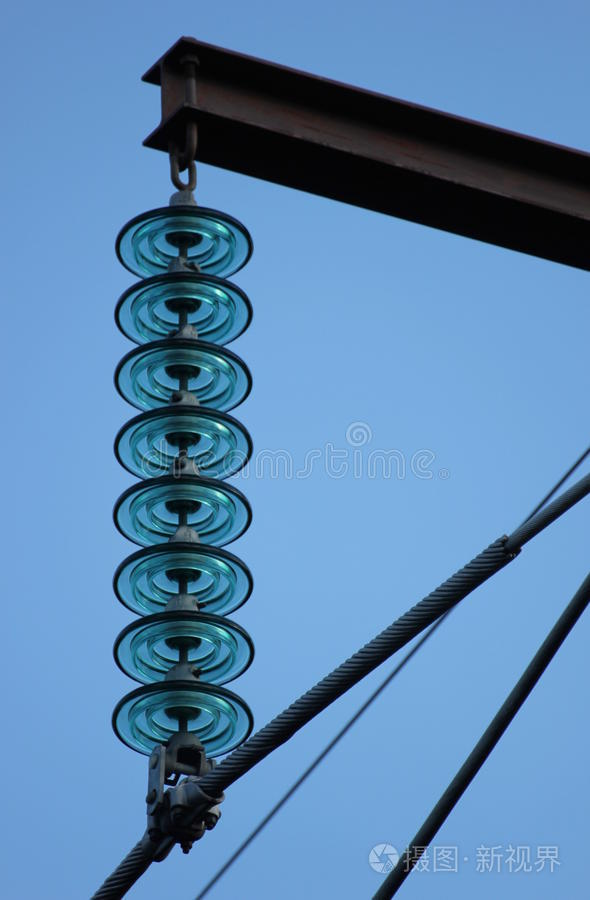insulator: (108, 205, 256, 758)
